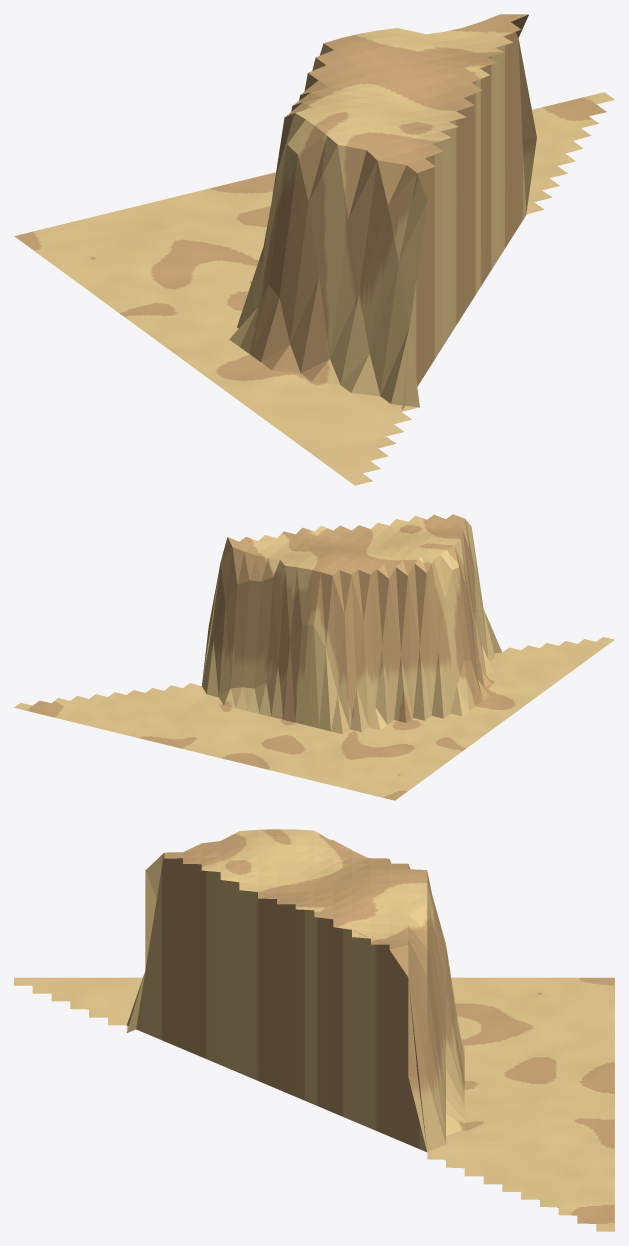
Rendered from Desert_Mountains_06_SW.obj.
3 views of the same model, one above another, from view 1: azimuth 30°, elevation 25°; view 2: azimuth 150°, elevation 25°; view 3: azimuth 270°, elevation 25° (orthographic). The views are drawn at different scales.
Bounding box in the file's own units: 10 × 3.63 × 10.
Materials: 1 (1 with a texture image).
